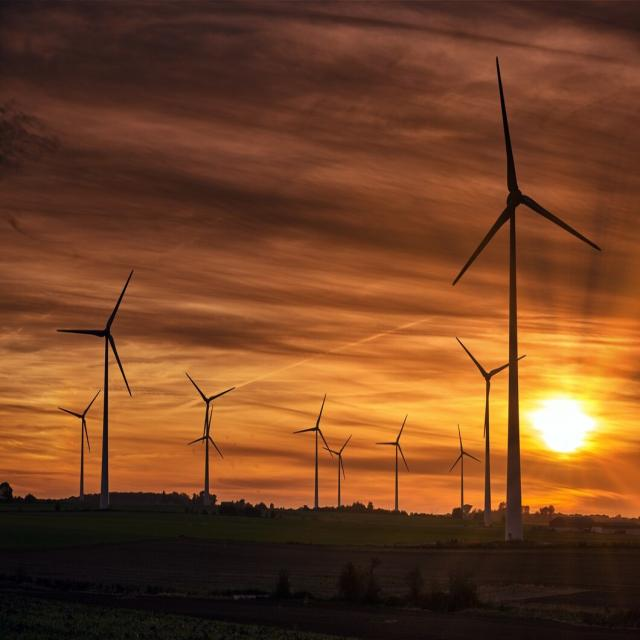wind-turbine: (452, 58, 600, 540), (58, 270, 132, 509), (59, 392, 99, 499), (376, 414, 409, 513)
